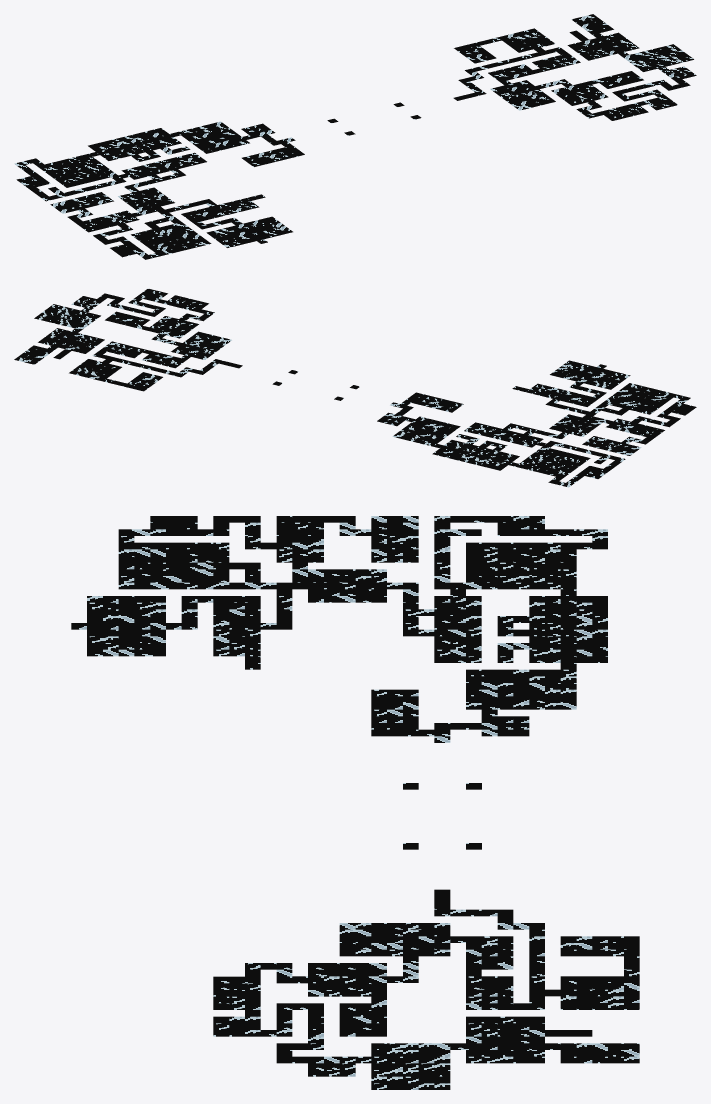
File: ceiling.gltf
The picture shows the model from 3 angles, top to bottom: view 1: azimuth 30°, elevation 25°; view 2: azimuth 150°, elevation 25°; view 3: azimuth 270°, elevation 25°; orthographic projection. The views are drawn at different scales.
Visible parts, largest first — view 1: ceiling; view 2: ceiling; view 3: ceiling.
Boxes of the visible parts, x1,y1,x2,y2 form: ceiling: (14, 14, 696, 259); ceiling: (14, 288, 696, 487); ceiling: (71, 516, 639, 1089).
Size of the model in its own units: 344 by 0.0108 by 144.
